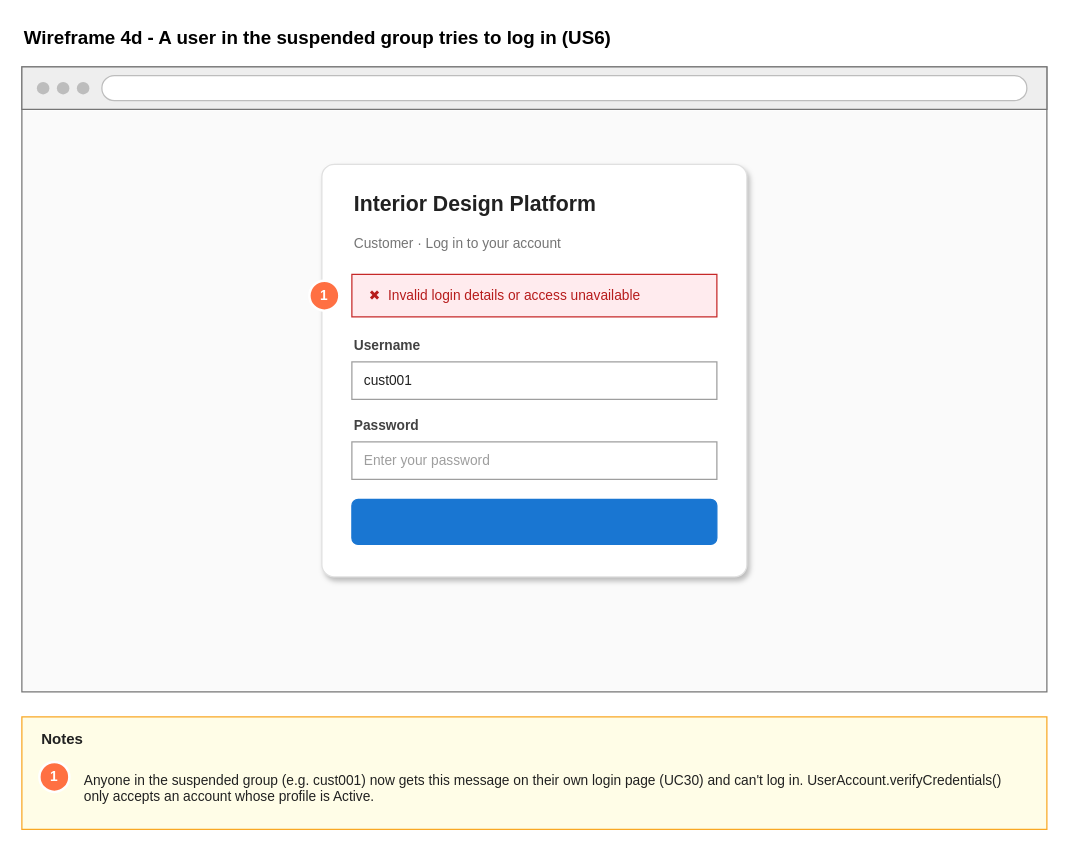
Image size: 1069x851. Some labels were removed from this diagram. Each missing label, with the centre of its shape:
localhost:8080/customer/login: pixel 564 87
Log in: pixel 534 521
